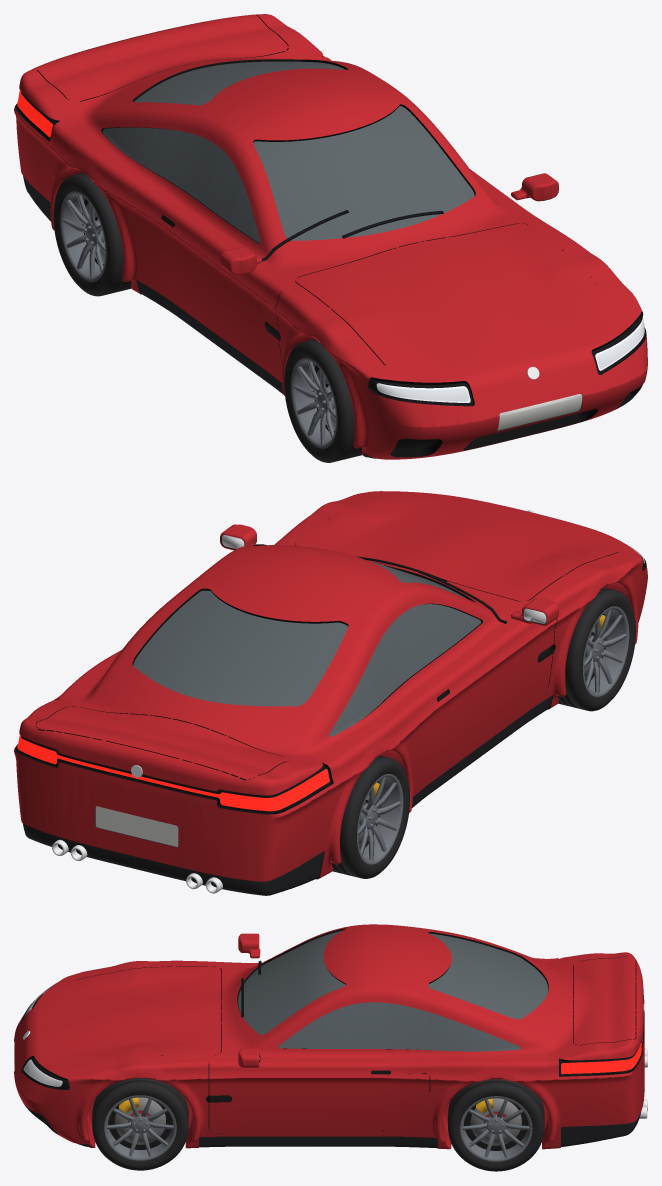
The model's file is halden-aster-gt.fbx.
The picture shows the model from 3 angles, top to bottom: view 1: azimuth 30°, elevation 25°; view 2: azimuth 150°, elevation 25°; view 3: azimuth 270°, elevation 25°; orthographic projection. The views are drawn at different scales.
Parts seen in each view (by area): view 1: Body_LOD0, Glass_LOD0, Wheel_FR_LOD0, Wheel_RR_LOD0, Walls_LOD0, HeadlightLens_LOD0, Trim_LOD0, Gloss_LOD0, Plate_LOD0; view 2: Body_LOD0, Glass_LOD0, Wheel_FR_LOD0, Wheel_RR_LOD0, Trim_LOD0, Walls_LOD0, TaillightLens_LOD0, Gloss_LOD0, Plate_LOD0, Exhaust; view 3: Body_LOD0, Glass_LOD0, Wheel_RL_LOD0, Wheel_FL_LOD0, Trim_LOD0, Walls_LOD0, TaillightLens_LOD0, Gloss_LOD0, HeadlightLens_LOD0.
Boxes of the visible parts, box(x1,y1,x2,y2) form: Body_LOD0: box(14, 14, 647, 459); Glass_LOD0: box(103, 61, 474, 243); Wheel_FR_LOD0: box(284, 339, 362, 462); Wheel_RR_LOD0: box(53, 173, 131, 296); Walls_LOD0: box(15, 14, 646, 457); HeadlightLens_LOD0: box(376, 319, 644, 402); Trim_LOD0: box(23, 175, 378, 458); Gloss_LOD0: box(17, 92, 642, 406); Plate_LOD0: box(497, 394, 582, 430); Body_LOD0: box(14, 491, 647, 881); Glass_LOD0: box(133, 560, 481, 736); Wheel_FR_LOD0: box(558, 587, 635, 711); Wheel_RR_LOD0: box(332, 755, 410, 878); Trim_LOD0: box(23, 695, 553, 895); Walls_LOD0: box(15, 504, 646, 879); TaillightLens_LOD0: box(17, 735, 329, 811); Gloss_LOD0: box(18, 565, 643, 813); Plate_LOD0: box(95, 806, 178, 846); Exhaust: box(52, 839, 222, 893); Body_LOD0: box(14, 924, 644, 1149); Glass_LOD0: box(238, 931, 548, 1051); Wheel_RL_LOD0: box(448, 1079, 544, 1171); Wheel_FL_LOD0: box(92, 1078, 188, 1170); Trim_LOD0: box(77, 1112, 640, 1148); Walls_LOD0: box(14, 928, 644, 1134); TaillightLens_LOD0: box(561, 1039, 642, 1074); Gloss_LOD0: box(23, 995, 641, 1088); HeadlightLens_LOD0: box(23, 983, 62, 1086).
Size of what is drawn, in the model's own units: 2.06 by 1.3 by 4.4.
